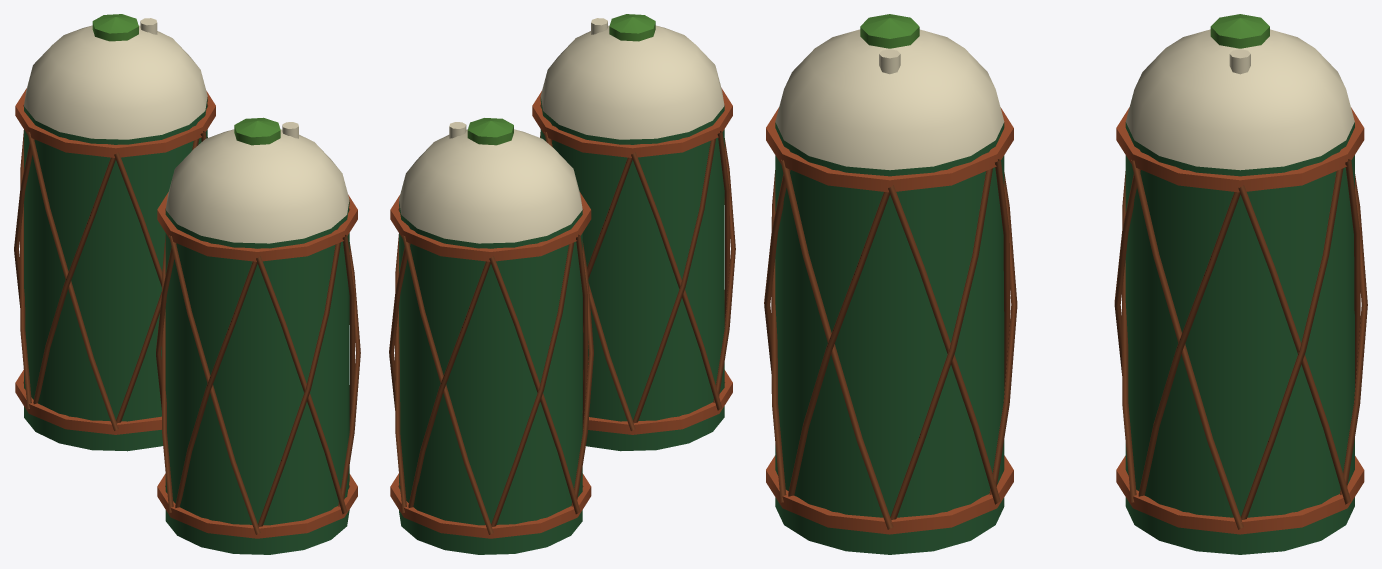
3 renders of one model, left to right at view 1: azimuth 30°, elevation 25°; view 2: azimuth 150°, elevation 25°; view 3: azimuth 270°, elevation 25°, orthographic. The views are drawn at different scales.
Parts seen in each view (by area): view 1: u500_o2; view 2: u500_o2; view 3: u500_o2.
Boxes of the visible parts, box(x1,y1,x2,y2) form: u500_o2: box(14, 14, 360, 554); u500_o2: box(389, 14, 735, 554); u500_o2: box(764, 14, 1367, 554).
Bounding box in the file's own units: 1.89 × 4 × 4.48.
